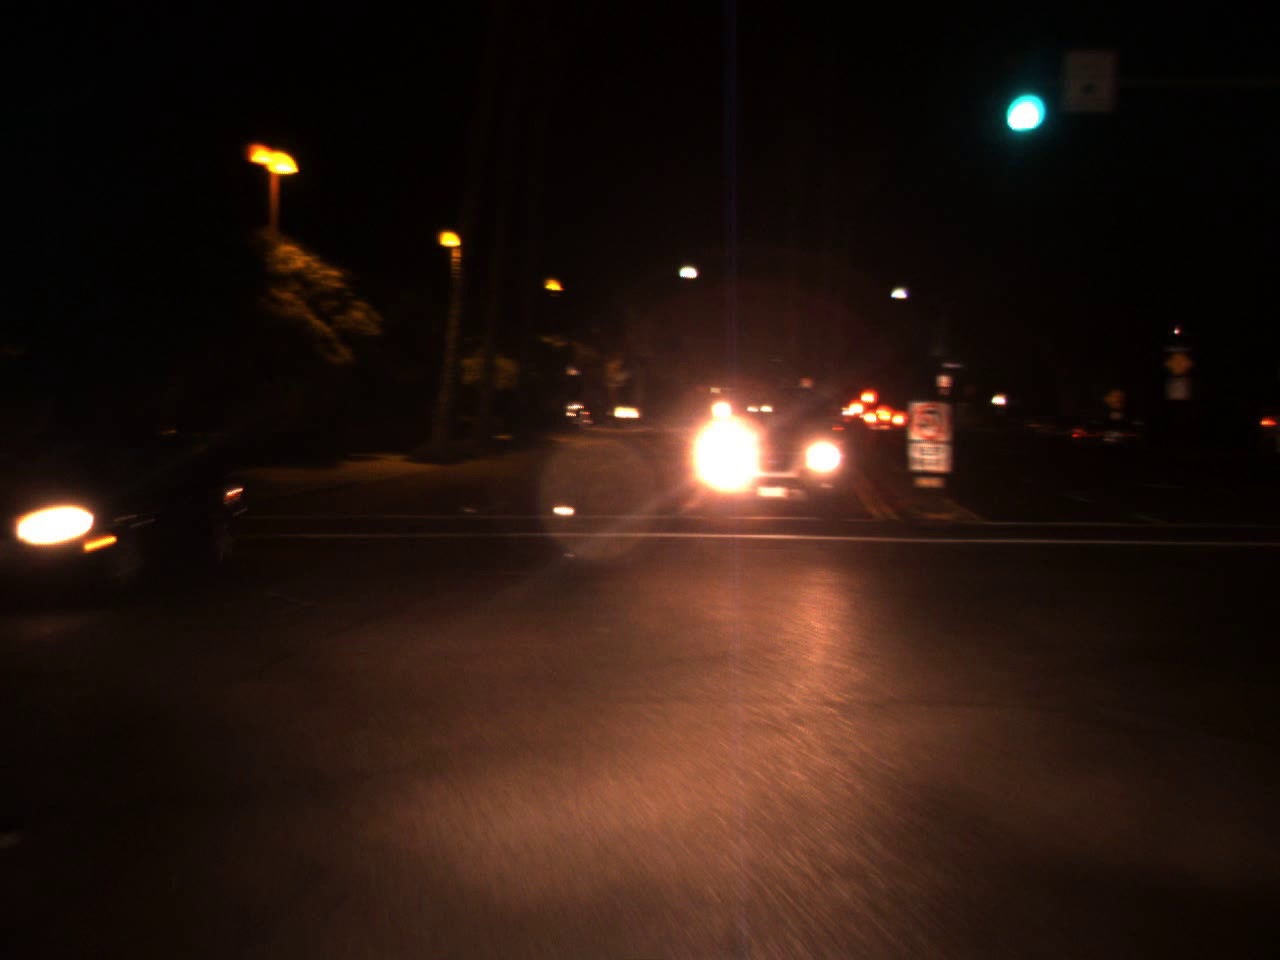go: (994, 63, 1046, 141)
